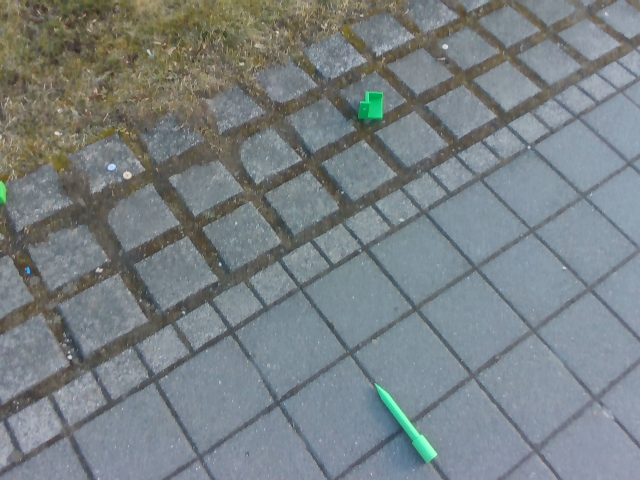Probe: (370, 373, 441, 470)
